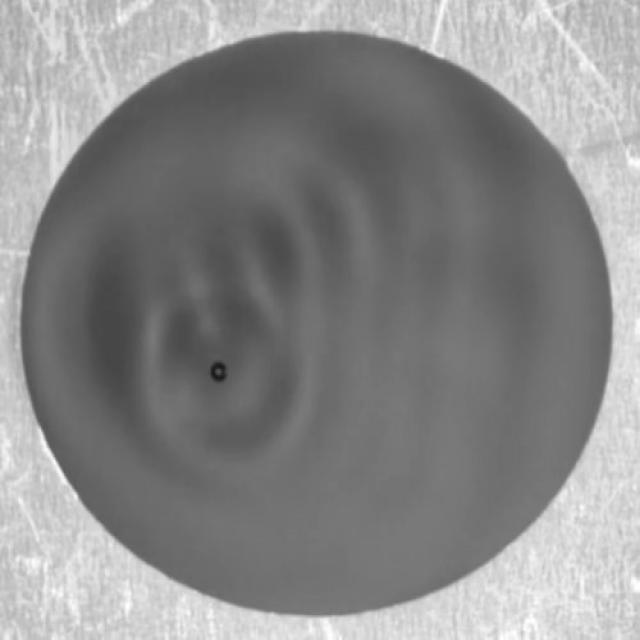droplet: (211, 362, 227, 381)
